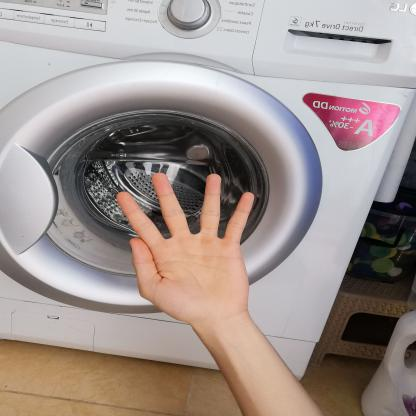SHEEN: (110, 167, 270, 333)
